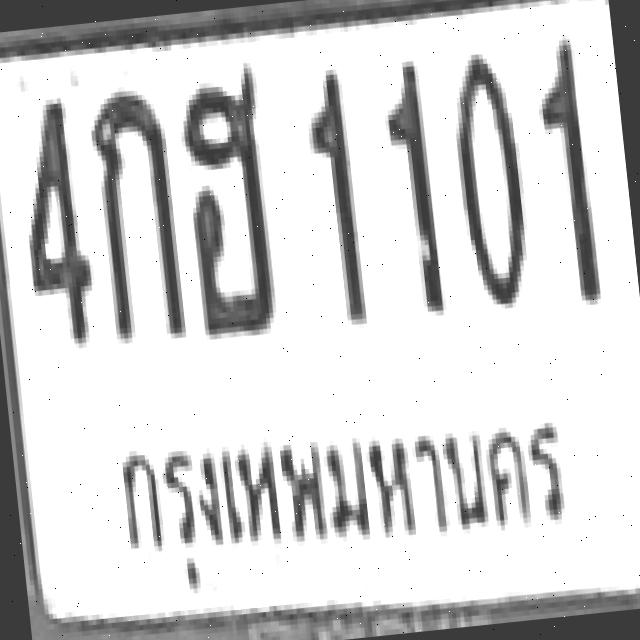0: (443, 48, 531, 310)
1: (531, 39, 600, 298), (297, 66, 366, 320), (378, 58, 443, 312)
10GorGai: (84, 83, 184, 340)
4: (10, 94, 93, 345)
53HorNokHook: (174, 67, 278, 335)
Bangkok: (91, 383, 590, 616)
